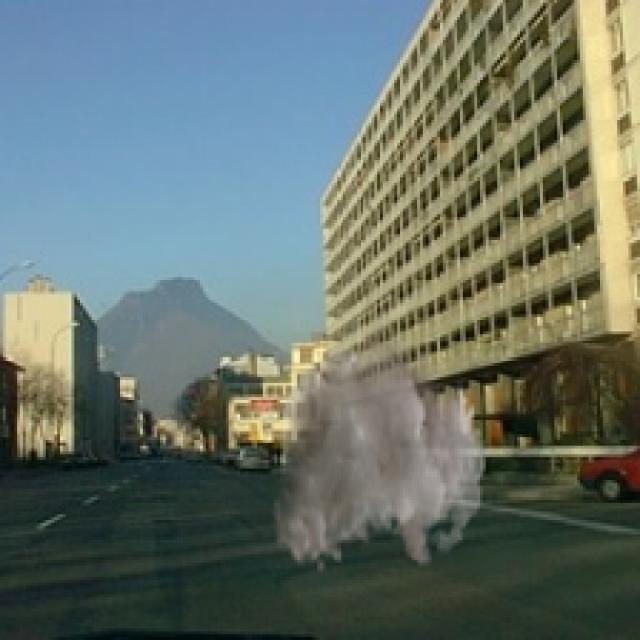smoke: (271, 314, 486, 574)
